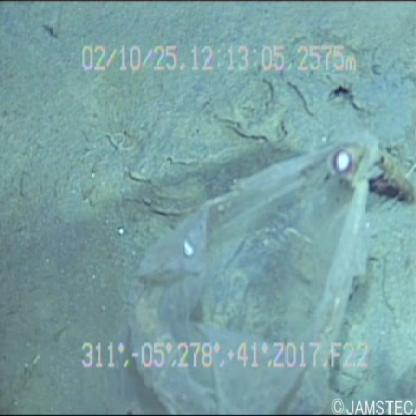Rác: (130, 116, 379, 416)
